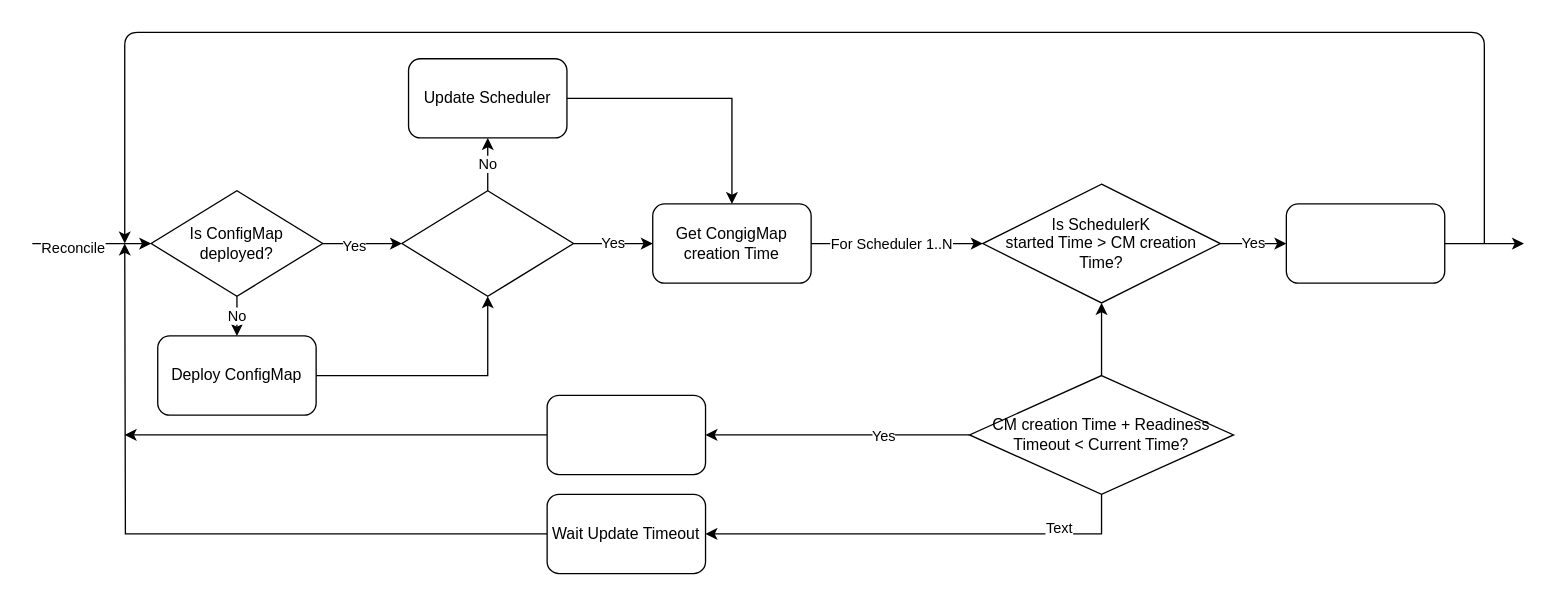
This 1558x597 diagram has some shape labels left out. Here are the shapes that lost their labels. From the top down, the centre of each, then its label:
At [487,242]: "Is Scheduler updated?".
At [1365,243]: "Mark state of ExtenderK as ready".
At [626,434]: "Delete ConfigMap (to force restart)".
